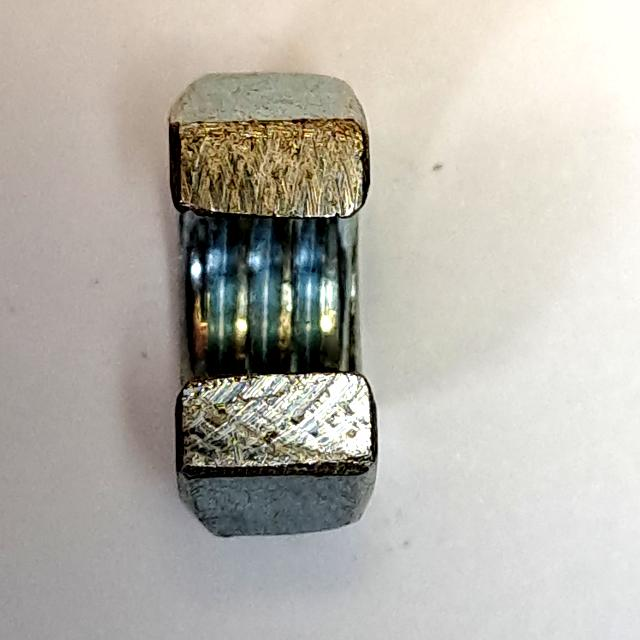Side-Fracture: (145, 53, 404, 553)
